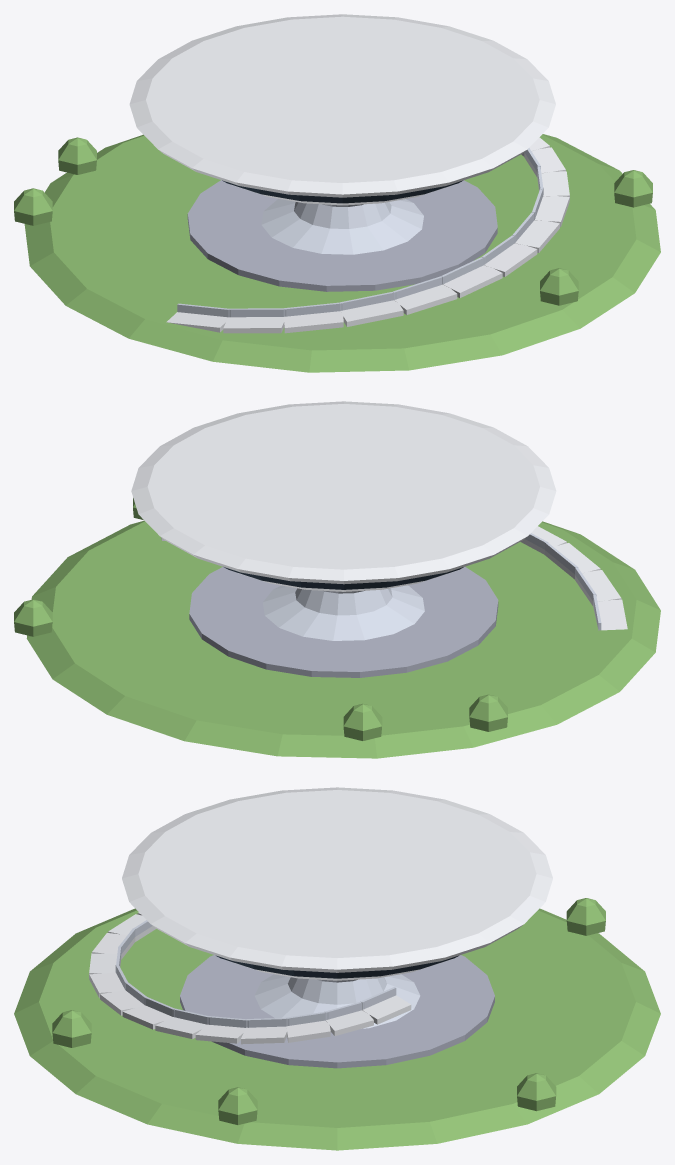
Rendered from niteroi-museum-4x4.glb.
The picture shows the model from 3 angles, top to bottom: view 1: azimuth 30°, elevation 25°; view 2: azimuth 150°, elevation 25°; view 3: azimuth 270°, elevation 25°; orthographic projection.
Parts seen in each view (by area): view 1: niteroi-museum-4x4; view 2: niteroi-museum-4x4; view 3: niteroi-museum-4x4.
Part boxes in pixels (bbox=[...]): niteroi-museum-4x4: bbox=[14, 14, 660, 372]; niteroi-museum-4x4: bbox=[14, 401, 660, 758]; niteroi-museum-4x4: bbox=[14, 787, 660, 1150].
Size of the model in its own units: 3.9 by 0.93 by 3.9.
Materials: 1 (1 with a texture image).
